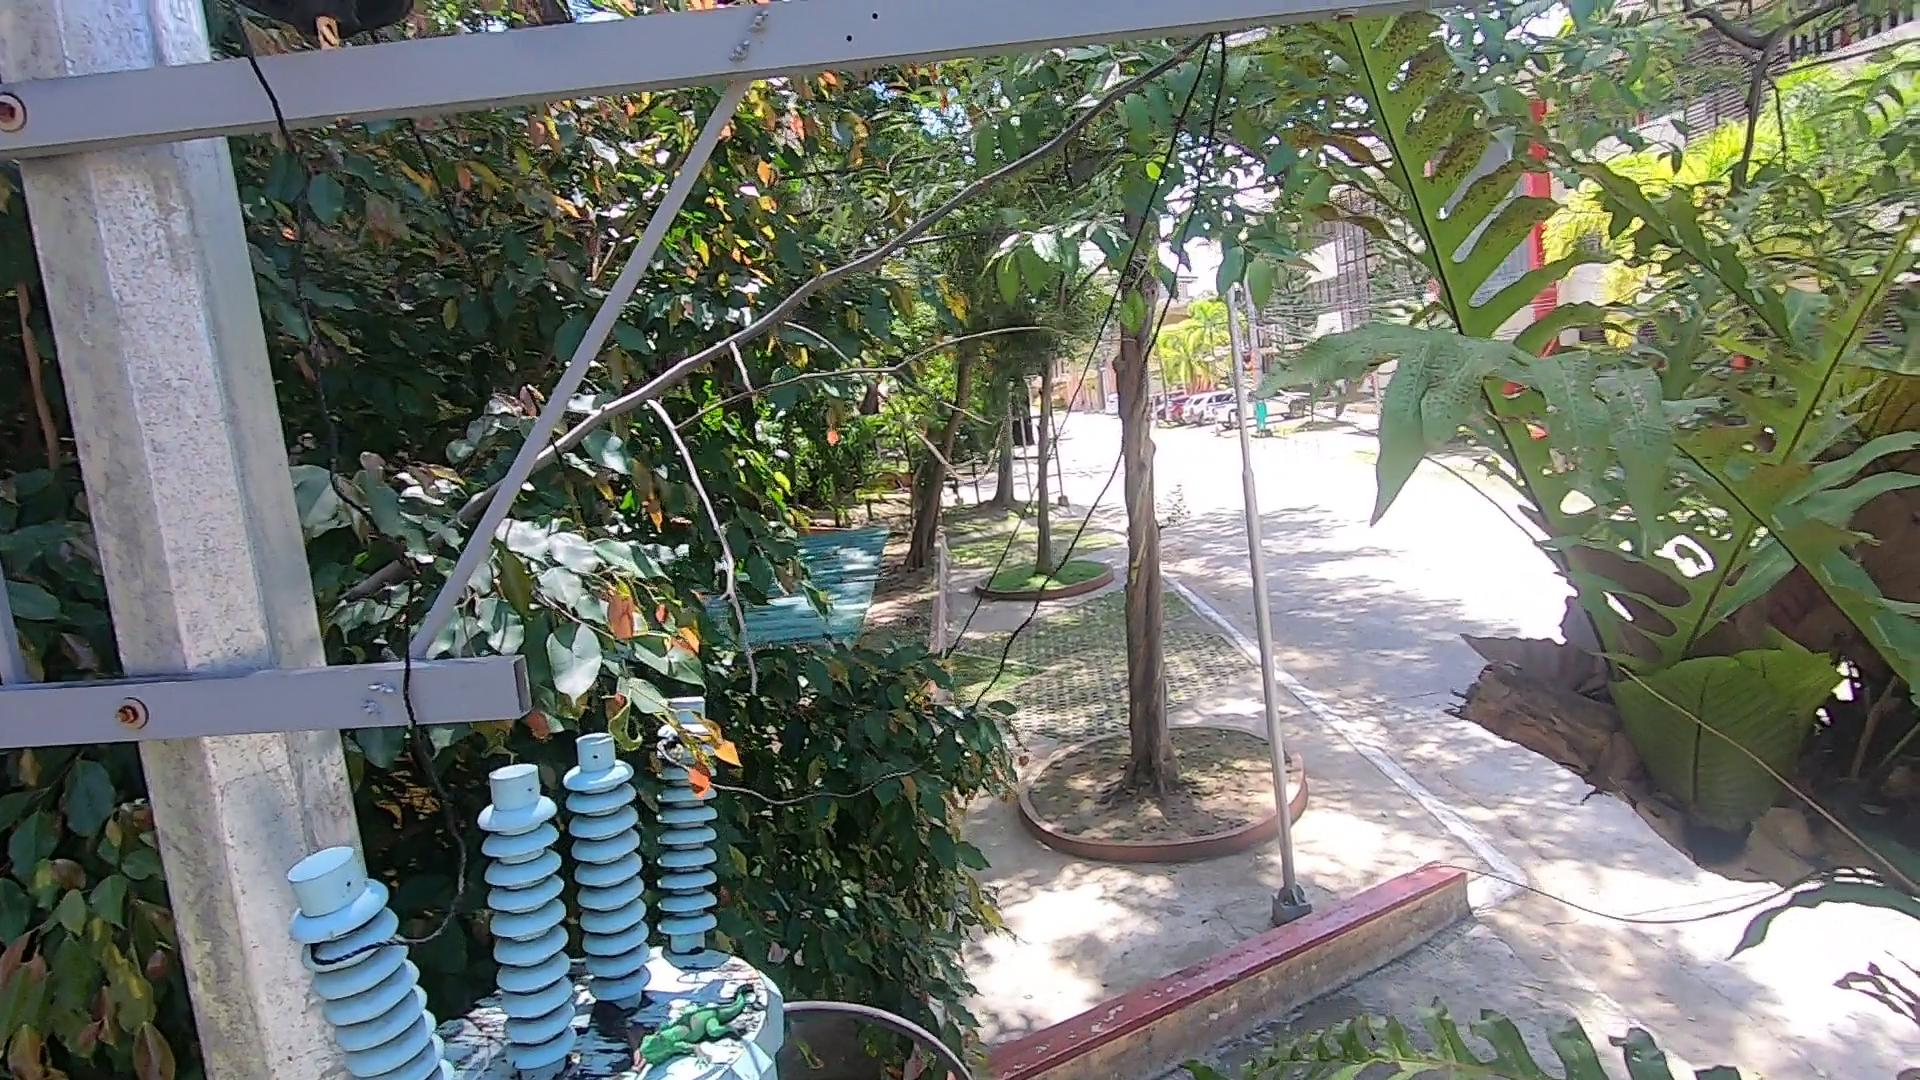leaf: (585, 994, 628, 1043), (625, 1015, 646, 1067)
tree branch: (335, 16, 1340, 719)
